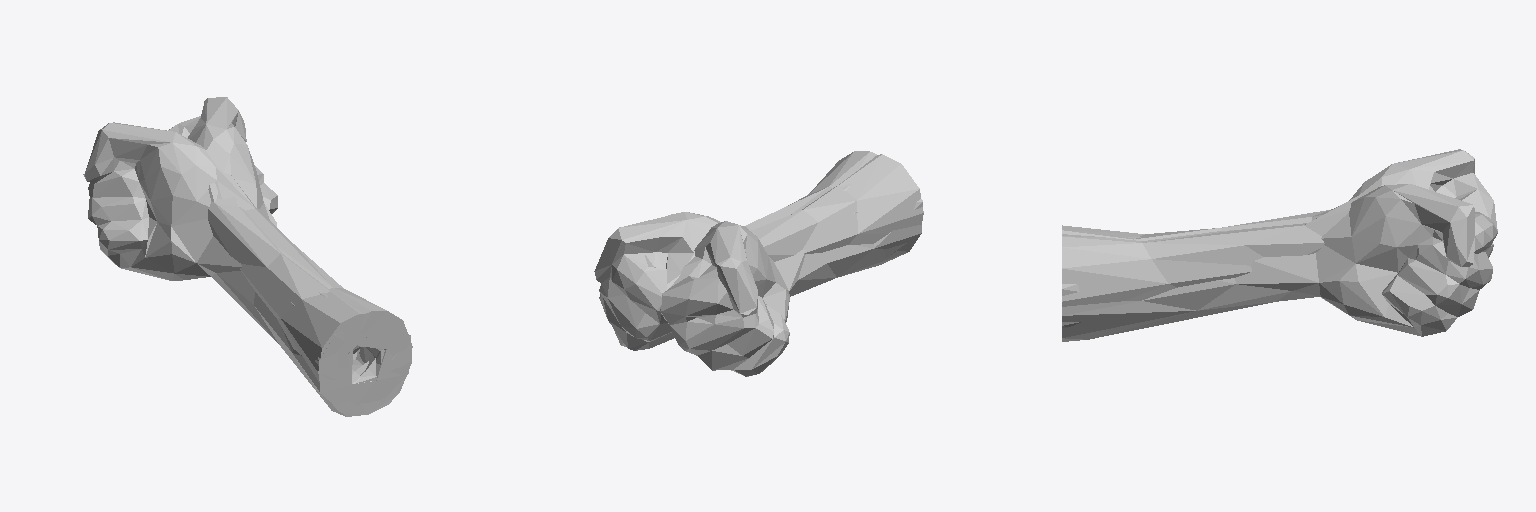
Rendered from fists.obj.
3 renders of one model, left to right at view 1: azimuth 30°, elevation 25°; view 2: azimuth 150°, elevation 25°; view 3: azimuth 270°, elevation 25°, orthographic.
Visible parts, largest first — view 1: Right_Hand_Quin_G1_Hand_Fist1.002, Left_Hand_Quin_G1_Hand_Fist1; view 2: Right_Hand_Quin_G1_Hand_Fist1.002, Left_Hand_Quin_G1_Hand_Fist1; view 3: Left_Hand_Quin_G1_Hand_Fist1, Right_Hand_Quin_G1_Hand_Fist1.002.
Boxes of the visible parts, x1=… form: Right_Hand_Quin_G1_Hand_Fist1.002: x1=83, y1=122, x2=412, y2=416; Left_Hand_Quin_G1_Hand_Fist1: x1=168, y1=97, x2=411, y2=414; Right_Hand_Quin_G1_Hand_Fist1.002: x1=660, y1=151, x2=922, y2=376; Left_Hand_Quin_G1_Hand_Fist1: x1=594, y1=154, x2=923, y2=350; Left_Hand_Quin_G1_Hand_Fist1: x1=1062, y1=184, x2=1497, y2=341; Right_Hand_Quin_G1_Hand_Fist1.002: x1=1062, y1=149, x2=1497, y2=327.
Size of the model in its own units: 8.96 by 7.82 by 19.33.